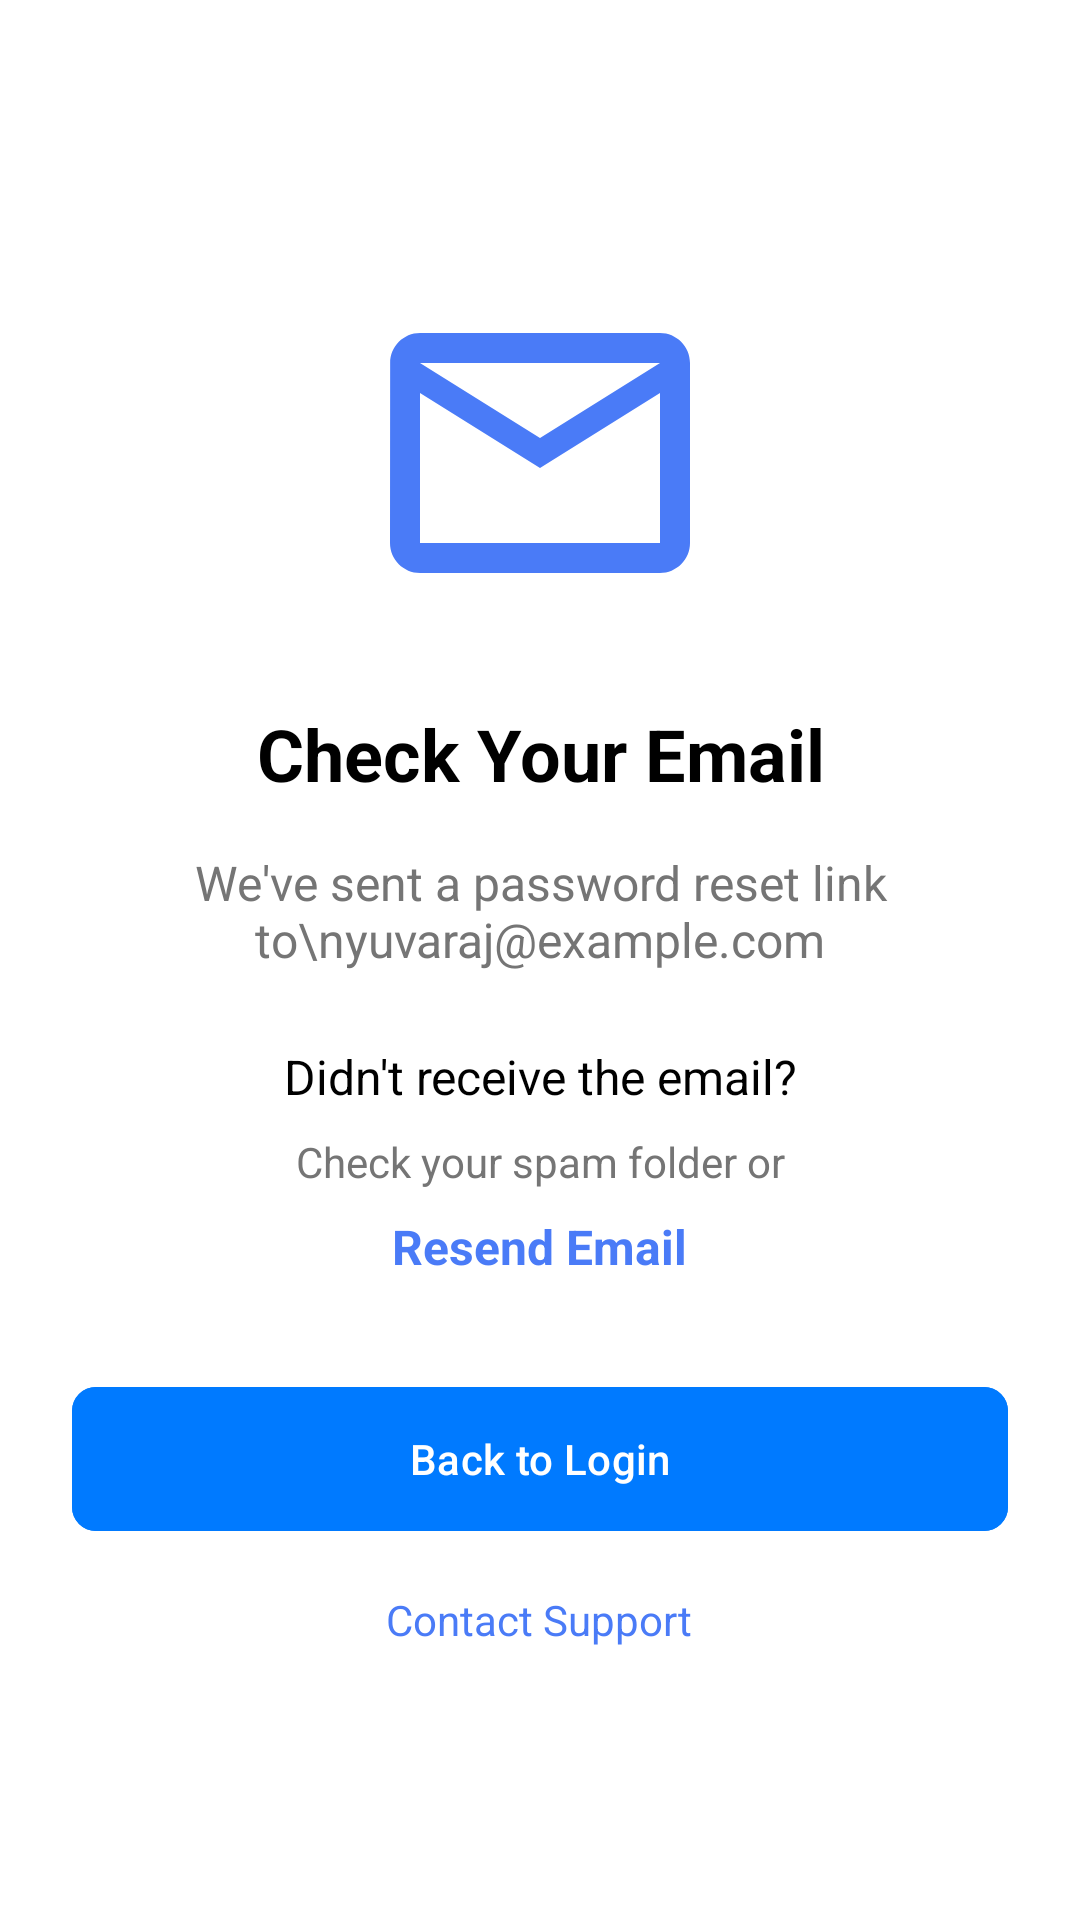

Named icons in this screenshot (1080 x 1920) and their bounding boxes, BBox(x1, y1, x2, y2):
email sent: BBox(390, 333, 690, 573)
